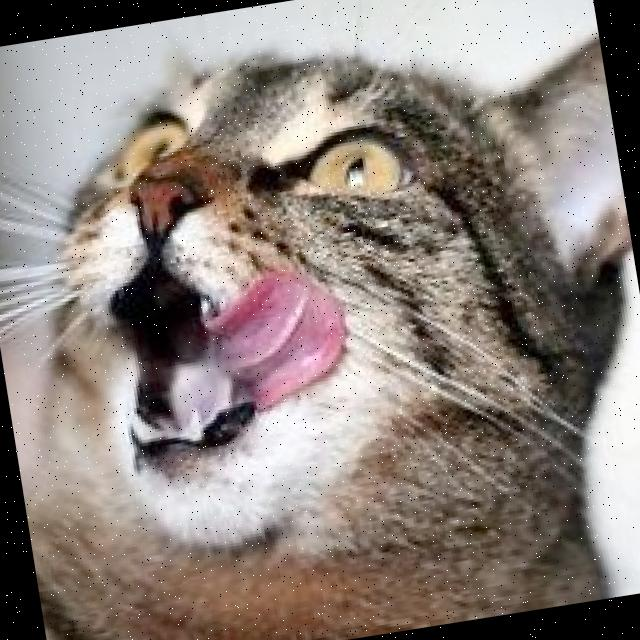Surprised: (69, 61, 486, 479)
